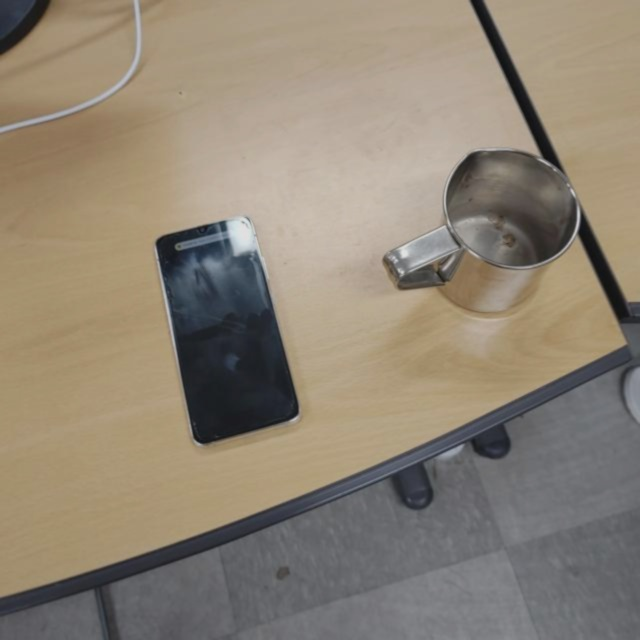cup: (382, 145, 579, 316)
phone: (154, 213, 305, 452)
